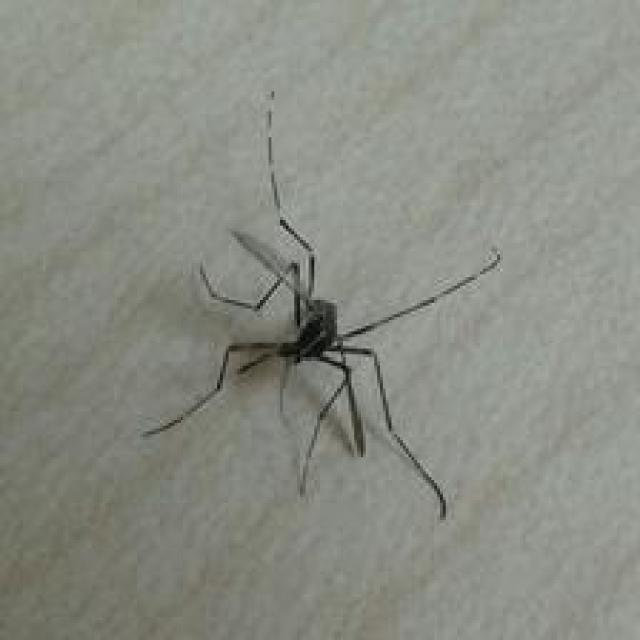Aedes albopictus: (140, 90, 503, 521)
